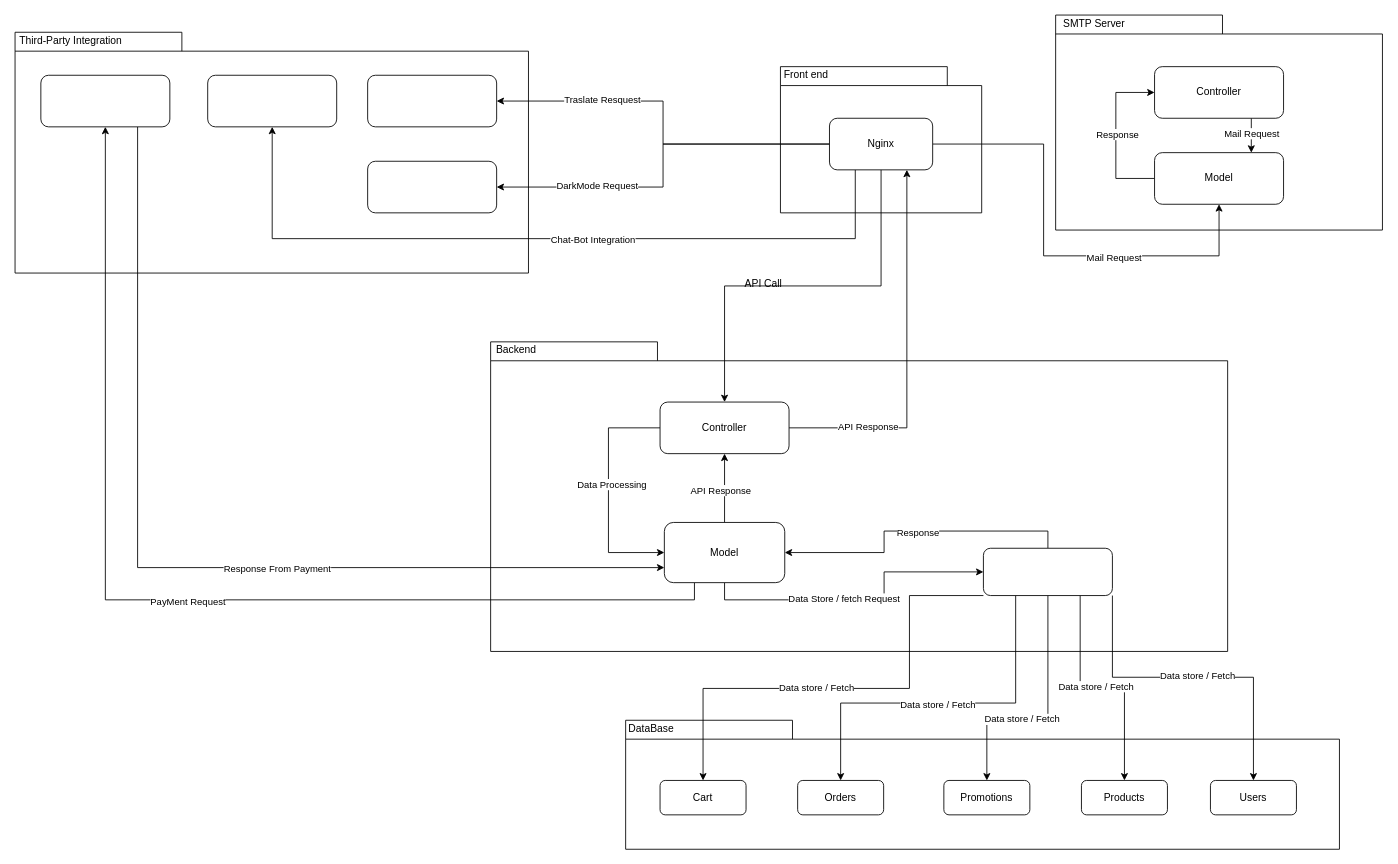
Image size: 1398x864. Some labels were removed from this diagram. Here are the shapes that lost their labels. From the top down, the centre of each, then its label:
At [105,100]: "Stripe".
At [272,100]: "FastBot Customer Care".
At [432,100]: "GTranslator".
At [432,186]: "DarkMode".
At [1047,571]: "Data-Base Interface".
